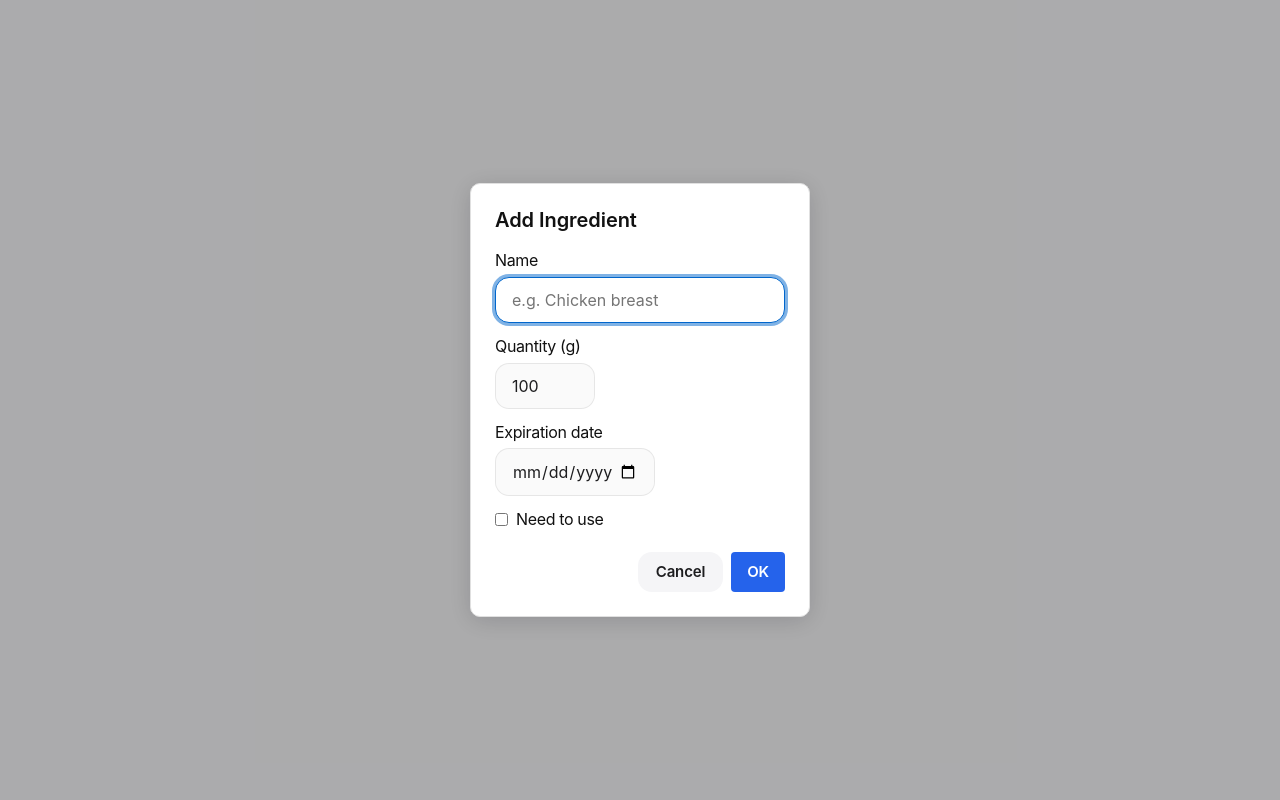
Test case: FridgeItemModal › blocks submit and shows error when quantity is zero
The width and height of the screenshot is (1280, 800).
Type "Milk" into the field with placeholder "e.g. Chicken breast".
click(640, 300); type("Milk")  # box x1=495 y1=277 x2=785 y2=323
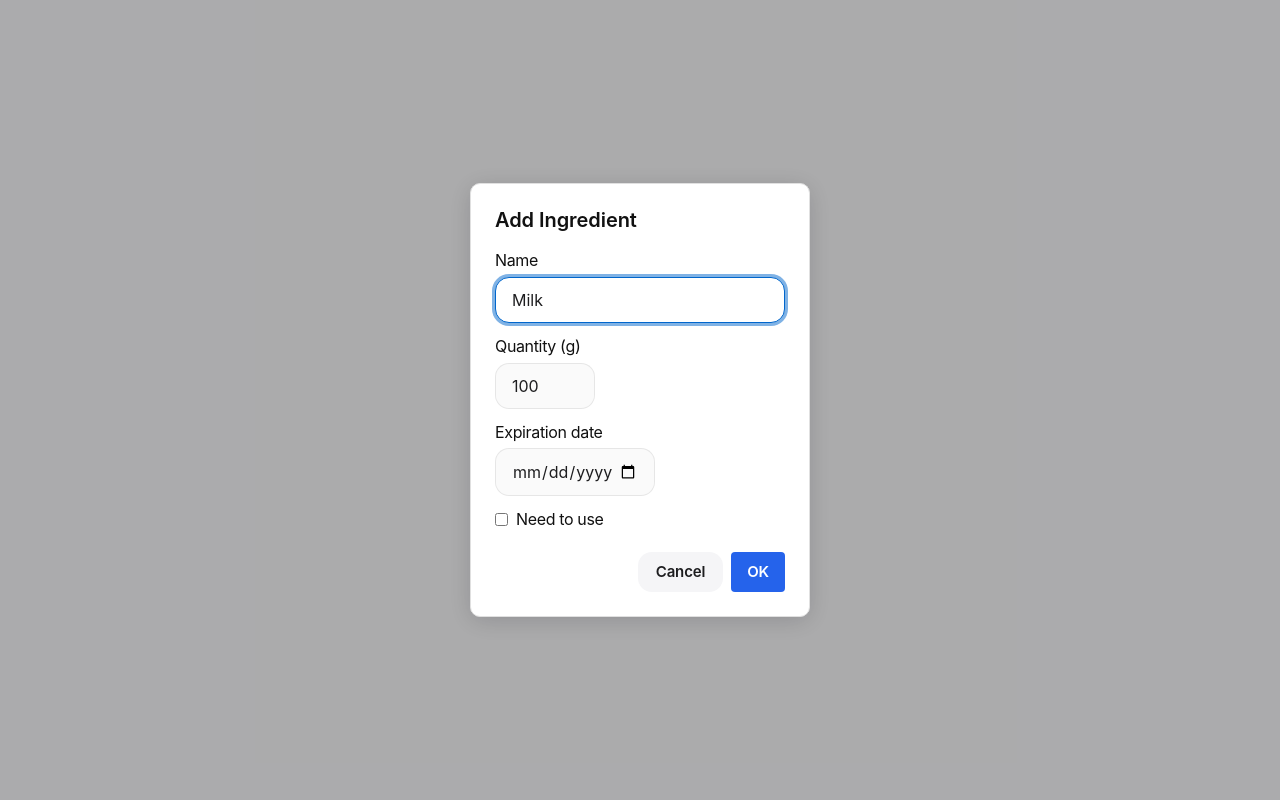
Replace the text in the field showing "100" with "0" at (545, 386), box x1=495 y1=362 x2=595 y2=408
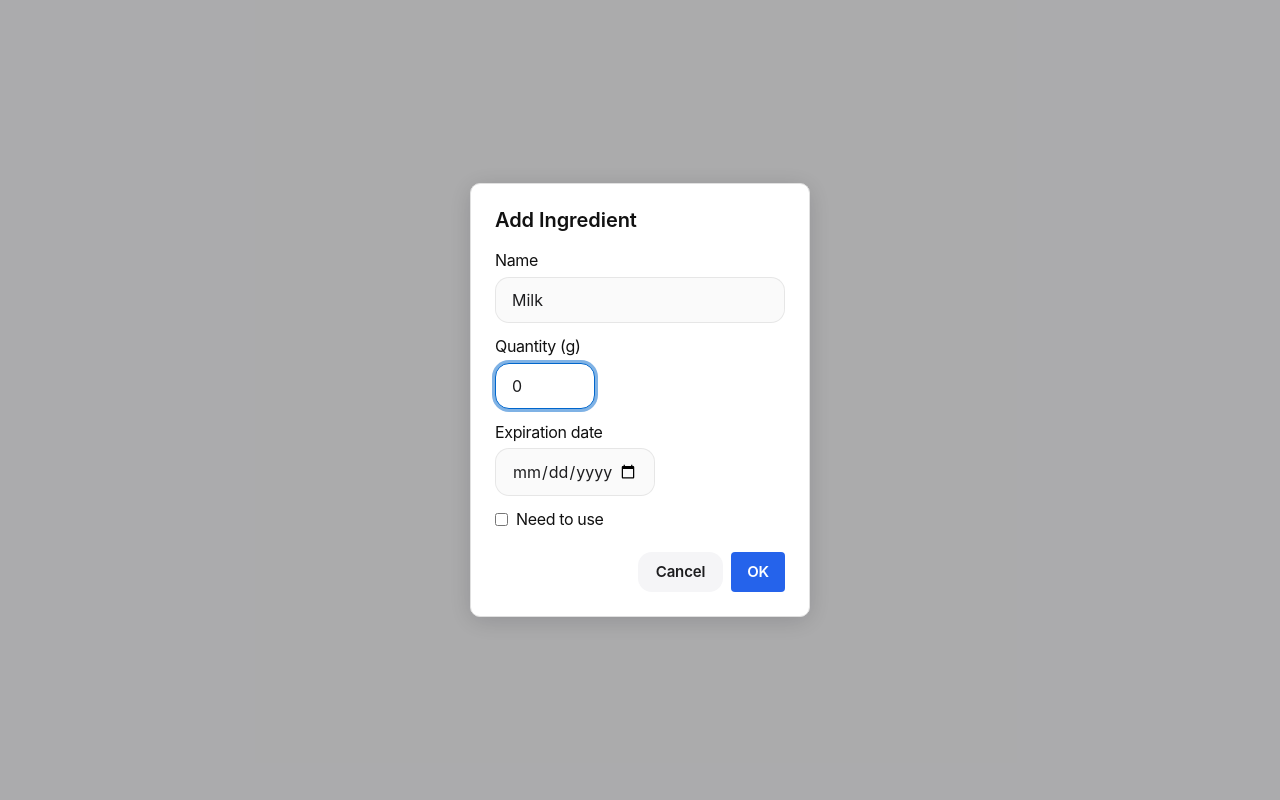
Click the button "OK".
click(758, 572)  # box x1=731 y1=552 x2=785 y2=592
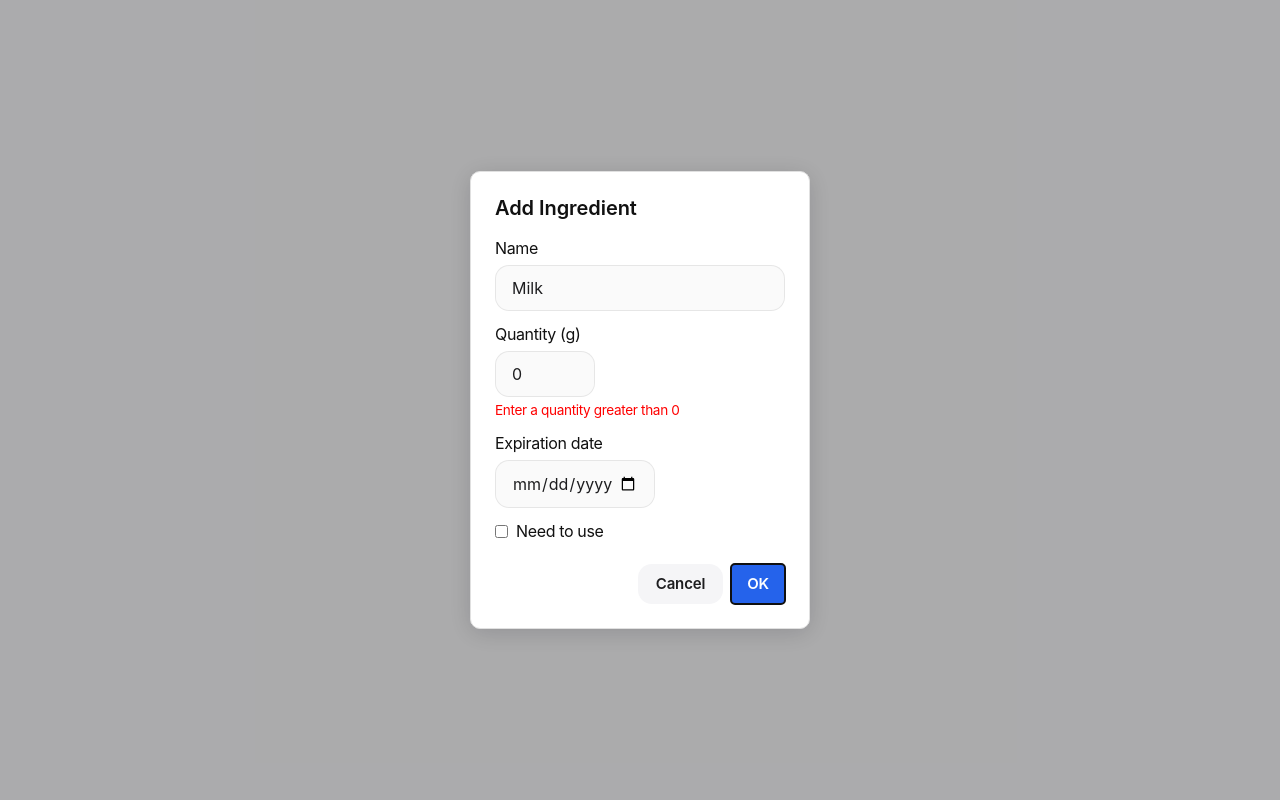
Expected: the text "Enter a quantity greater than 0" is shown, x1=495 y1=402 x2=680 y2=418
